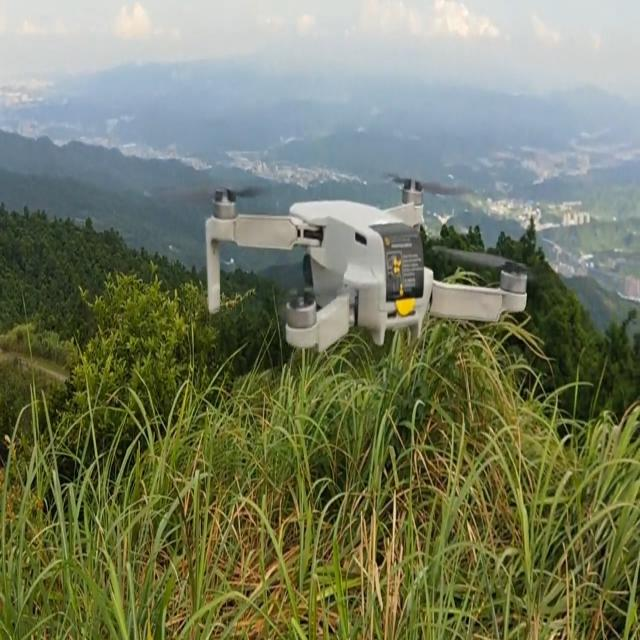Drone: (194, 172, 538, 362)
